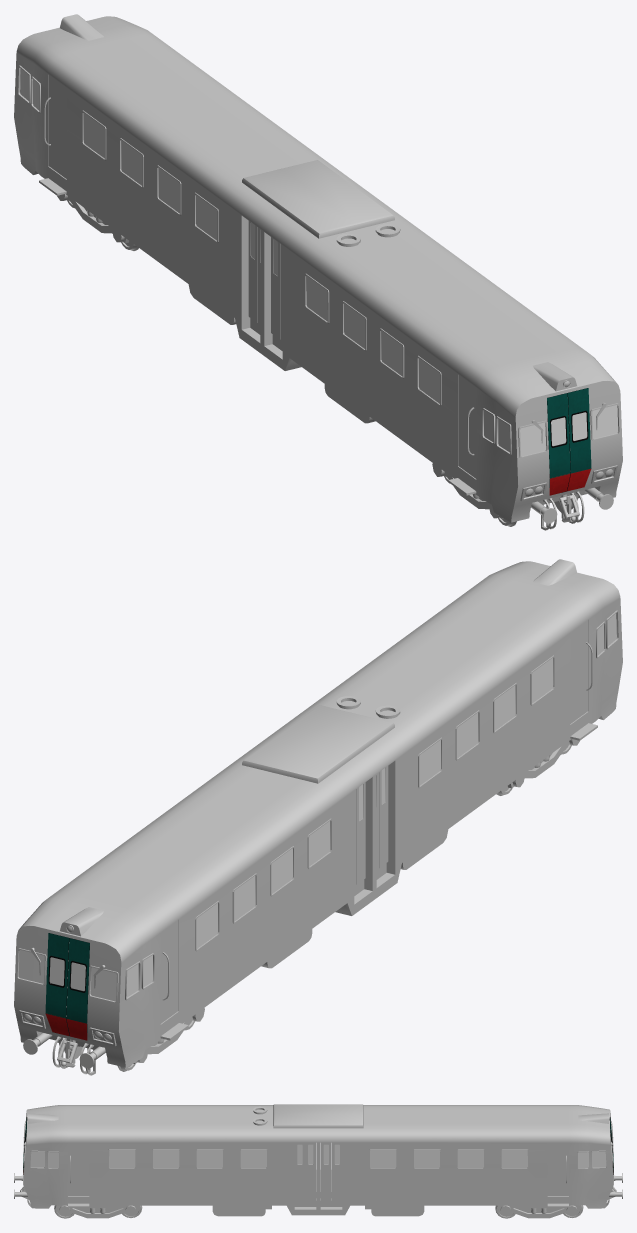
The model's file is train.fbx.
3 views of the same model, one above another, from view 1: azimuth 30°, elevation 25°; view 2: azimuth 150°, elevation 25°; view 3: azimuth 270°, elevation 25° (orthographic). The views are drawn at different scales.
Parts seen in each view (by area): view 1: exterior, glasses, accs, bdoor_r, bdoor_l, driver_door_front_r, driver_door_back_r, frontaccs, sidedoor_r.002, sidedoor_r.003, interior; view 2: exterior, glasses, accs, fdoor_l, fdoor_r, driver_door_back_r, driver_door_front_r, frontaccs, sidedoor_l.002, sidedoor_l.003, interior; view 3: exterior, glasses, accs, driver_door_front_l, driver_door_back_l, bogie_back, bogie_front, sidedoor_l, sidedoor_r, sidedoor_l.001, sidedoor_r.001, frontaccs.
Boxes of the visible parts, x1,y1,x2,y2 form: exterior: (14,14,622,522); glasses: (20,68,618,456); accs: (188,224,617,501); bdoor_r: (567,388,591,491); bdoor_l: (547,393,570,495); driver_door_front_r: (44,75,66,178); driver_door_back_r: (458,375,476,478); frontaccs: (39,178,584,530); sidedoor_r.002: (271,237,280,339); sidedoor_r.003: (248,221,257,322); interior: (19,68,618,479); exterior: (14,559,622,1067); glasses: (18,613,616,1001); accs: (19,696,448,1046); fdoor_l: (45,933,69,1036); fdoor_r: (66,938,89,1040); driver_door_back_r: (570,620,592,723); driver_door_front_r: (160,920,178,1023); frontaccs: (52,723,597,1075); sidedoor_l.002: (379,766,388,867); sidedoor_l.003: (356,782,365,884); interior: (18,613,617,1024); exterior: (23,1104,613,1215); glasses: (30,1149,606,1168); accs: (23,1106,613,1216); driver_door_front_l: (547,1143,568,1196); driver_door_back_l: (68,1143,89,1196); bogie_back: (56,1205,139,1218); bogie_front: (497,1205,580,1218); sidedoor_l: (294,1142,305,1200); sidedoor_r: (305,1142,315,1200); sidedoor_l.001: (321,1142,331,1200); sidedoor_r.001: (332,1142,342,1200); frontaccs: (20,1187,616,1208).
Bounding box in the file's own units: 335 × 402 × 2298.
